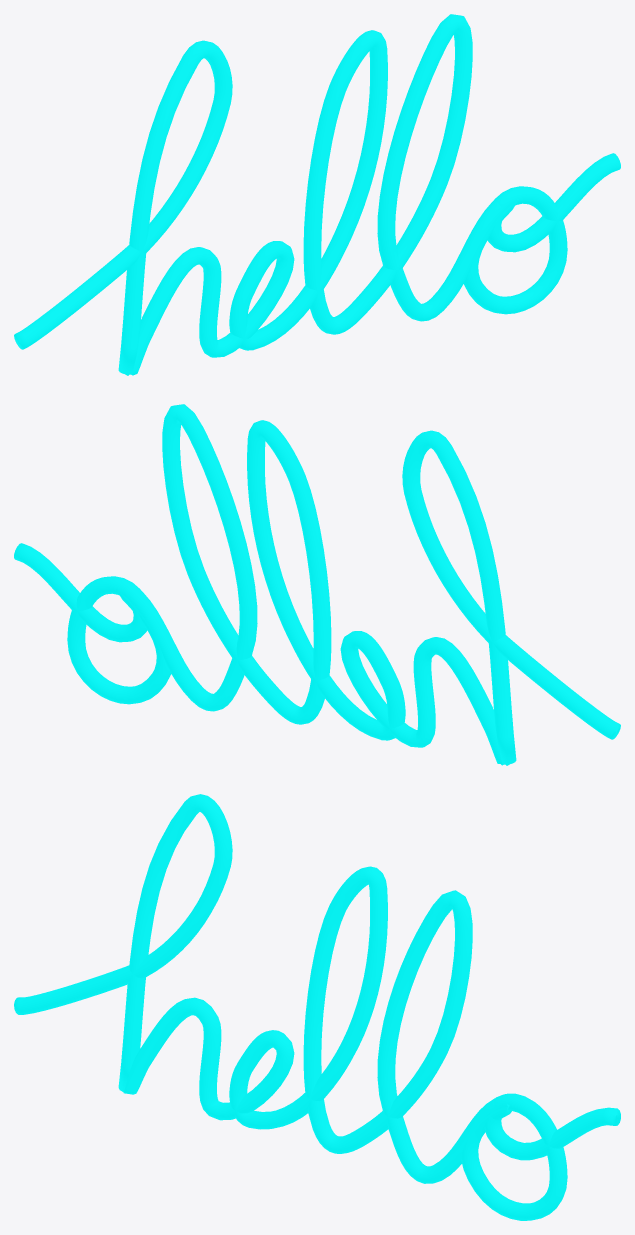
File: NeonGenerator-transformed.glb
The picture shows the model from 3 angles, top to bottom: view 1: azimuth 30°, elevation 25°; view 2: azimuth 150°, elevation 25°; view 3: azimuth 330°, elevation 25°; orthographic projection.
Parts seen in each view (by area): view 1: NeonGlass.001; view 2: NeonGlass.001; view 3: NeonGlass.001.
Boxes of the visible parts, box(x1,y1,x2,y2) form: NeonGlass.001: box(14, 14, 620, 375); NeonGlass.001: box(14, 404, 620, 765); NeonGlass.001: box(14, 794, 620, 1220).
Size of the model in its own units: 18.74 by 10.33 by 0.5375.
